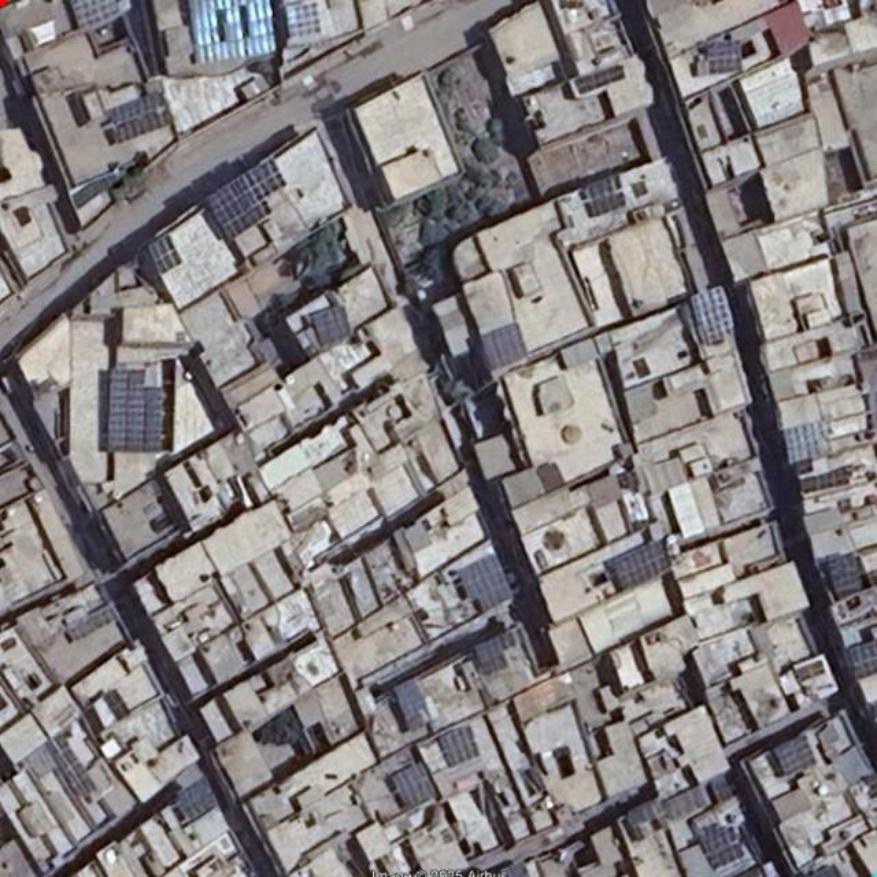Solarpanel: (209, 158, 294, 238), (186, 0, 274, 66), (104, 368, 163, 452), (458, 552, 520, 610), (609, 541, 669, 591), (112, 92, 166, 140), (690, 287, 732, 348), (472, 631, 521, 675), (786, 421, 829, 466), (394, 762, 435, 809), (578, 176, 626, 216), (700, 826, 744, 869), (826, 556, 867, 599), (438, 727, 481, 766), (774, 736, 816, 773), (307, 308, 349, 344), (147, 235, 183, 273), (69, 0, 118, 27), (575, 65, 625, 91), (287, 3, 317, 38), (707, 41, 741, 71), (851, 641, 876, 681)
